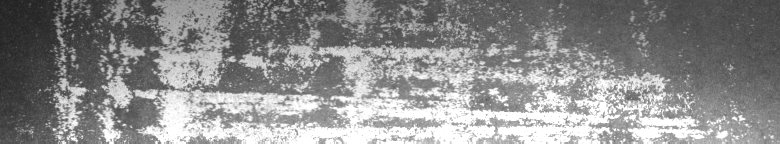kb: (15, 4, 748, 136)
